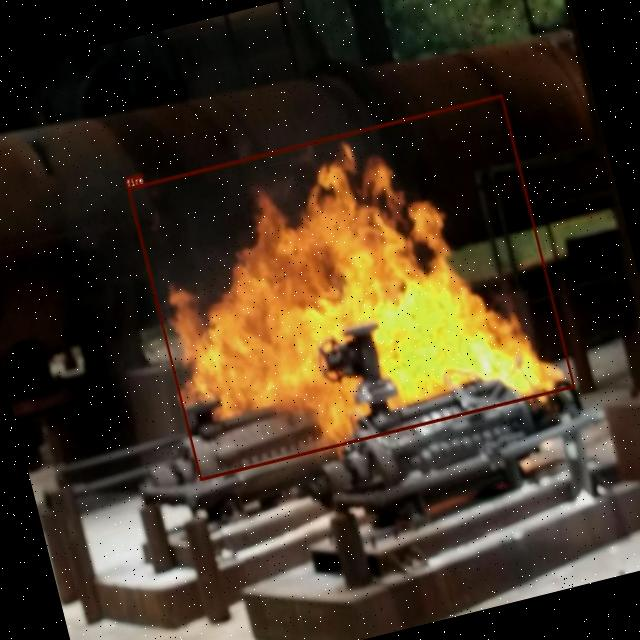fire: (126, 93, 575, 480)
